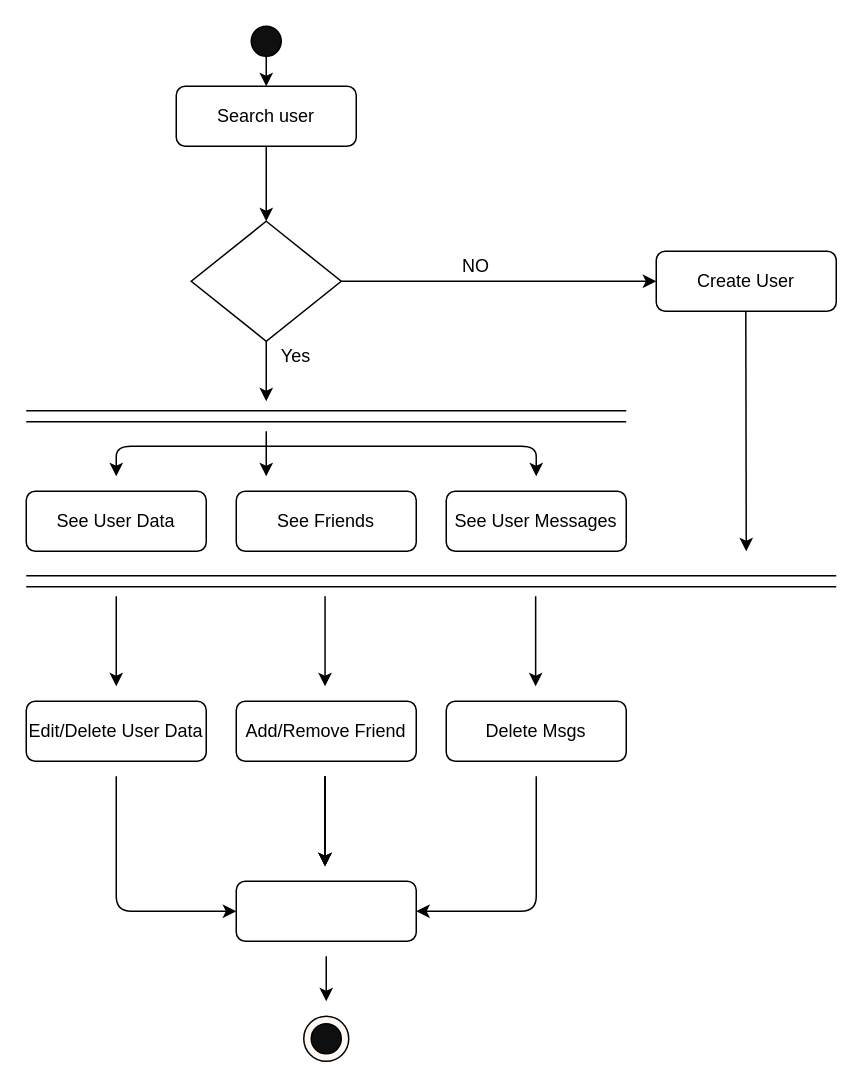
Image size: 863x1088. Some labels were removed from this diagram. The centre of each missing label's shape, as x and y in pixels:
"DoesUser Exist?" belongs at point (265, 280).
"Save Changes" belongs at point (325, 910).
